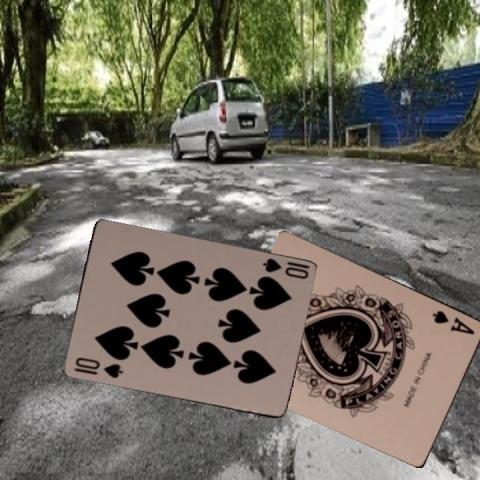10s: (260, 255, 312, 281), (72, 354, 123, 380)
As: (429, 307, 477, 336)
